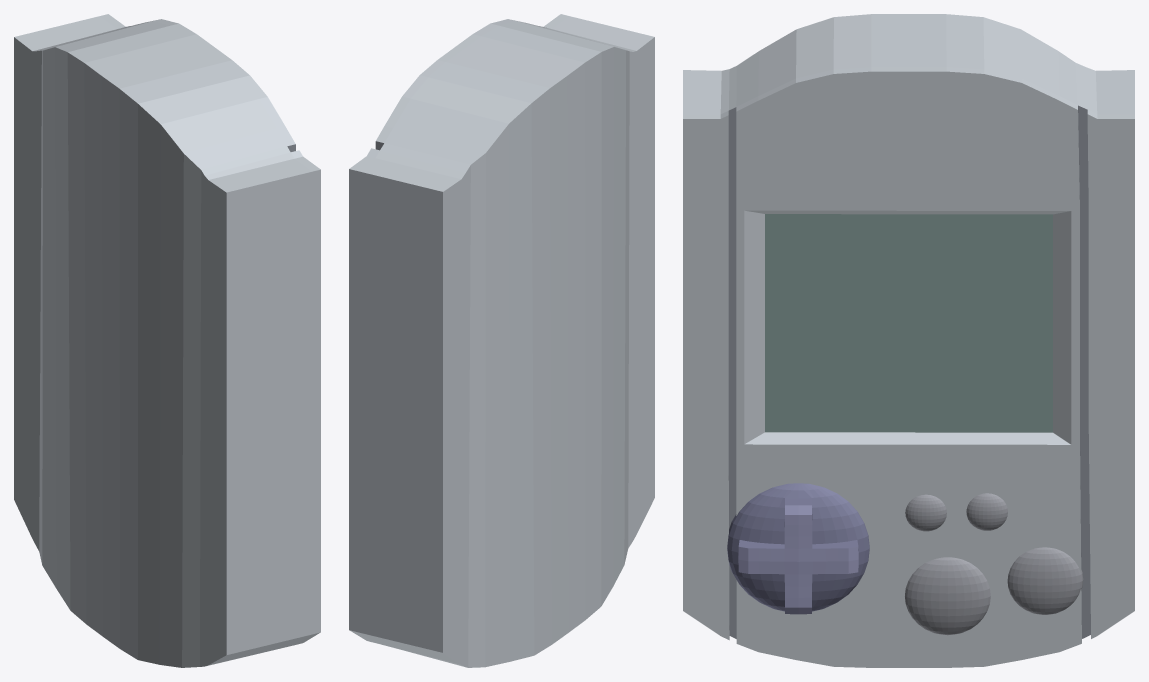
Rendered from vmu.fbx.
The picture shows the model from 3 angles, left to right: view 1: azimuth 30°, elevation 25°; view 2: azimuth 150°, elevation 25°; view 3: azimuth 270°, elevation 25°; orthographic projection. The views are drawn at different scales.
Parts seen in each view (by area): view 1: Cube; view 2: Cube; view 3: Cube, Sphere.004, Sphere, Sphere.001, Sphere.003, Sphere.002.
Part boxes in pixels (x1,y1,x2,y2): Cube: [14, 14, 320, 667]; Cube: [349, 14, 654, 667]; Cube: [683, 14, 1134, 667]; Sphere.004: [727, 483, 869, 614]; Sphere: [905, 557, 990, 635]; Sphere.001: [1007, 547, 1083, 614]; Sphere.003: [966, 493, 1007, 530]; Sphere.002: [905, 494, 946, 531].
Bounding box in the file's own units: 102 × 392 × 269.
